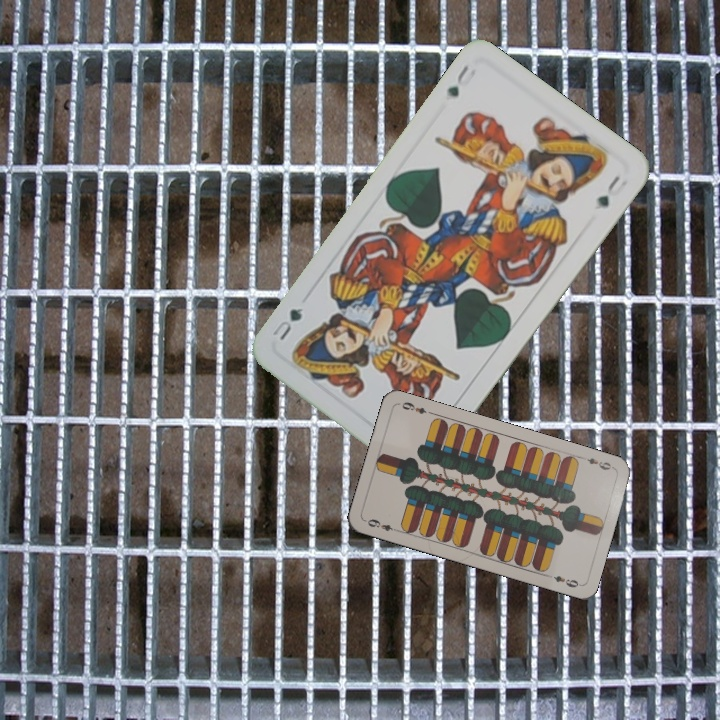E9: (577, 453, 617, 473), (361, 515, 401, 534)
GU: (442, 60, 474, 100)
